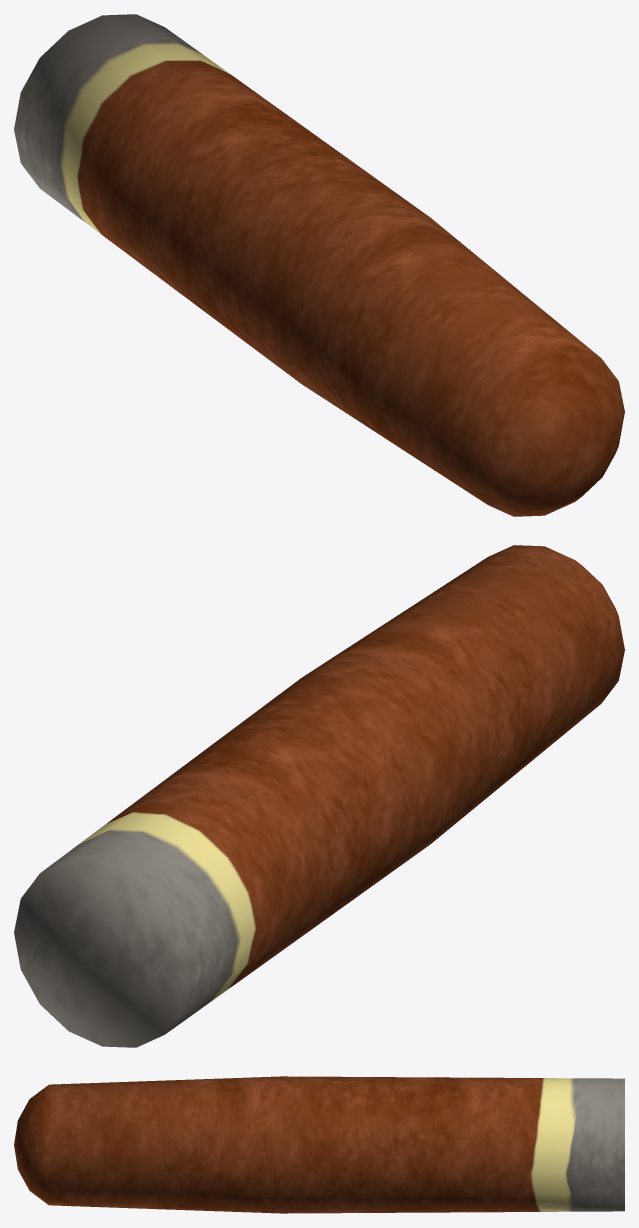
Rendered from WorldItem_CigarHalfAZ.fbx.
3 views of the same model, one above another, from view 1: azimuth 30°, elevation 25°; view 2: azimuth 150°, elevation 25°; view 3: azimuth 270°, elevation 25° (orthographic). The views are drawn at different scales.
Visible parts, largest first — view 1: Cigar; view 2: Cigar; view 3: Cigar.
Part boxes in pixels (<box>): Cigar: <box>14,14,624,516</box>; Cigar: <box>14,545,624,1047</box>; Cigar: <box>14,1076,624,1213</box>.
Size of the model in its own units: 0.0167 by 0.0167 by 0.0745.
